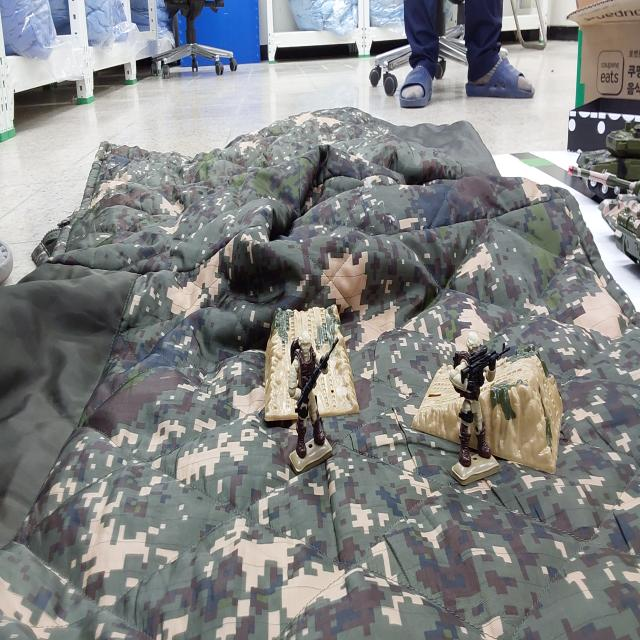ally: (449, 332, 509, 484), (288, 331, 338, 472)
